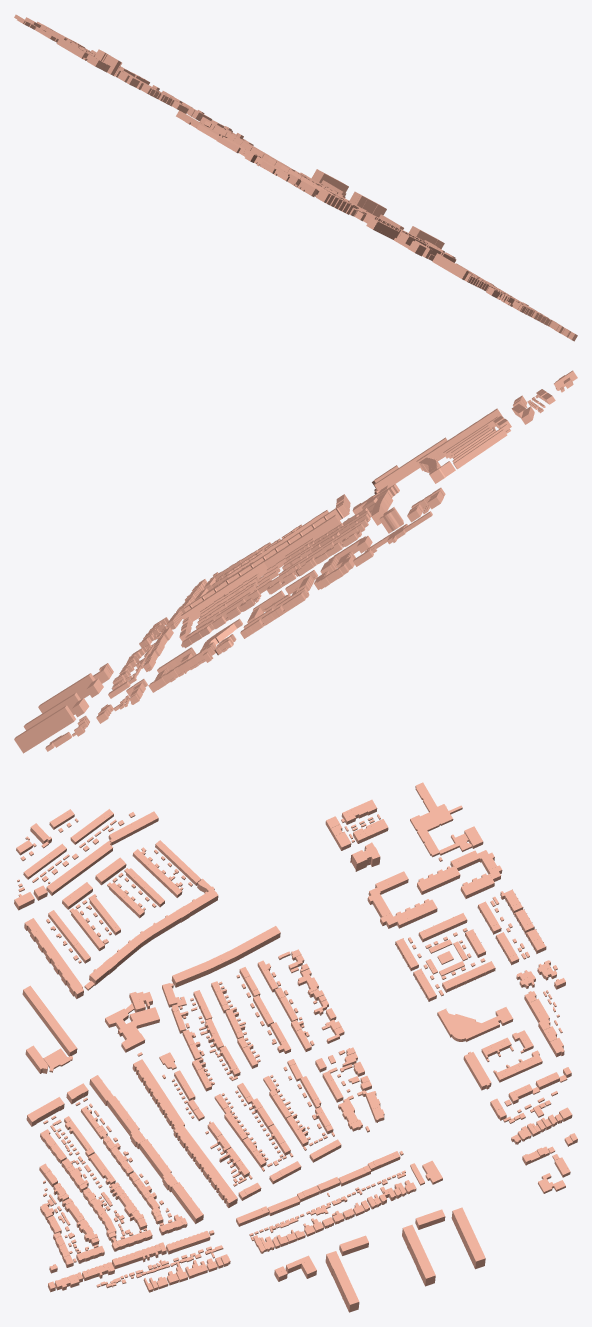
3 views of the same model, one above another, from view 1: azimuth 30°, elevation 25°; view 2: azimuth 150°, elevation 25°; view 3: azimuth 270°, elevation 25° (orthographic). The views are drawn at different scales.
Size of the model in its own units: 548 by 410 by 635.
